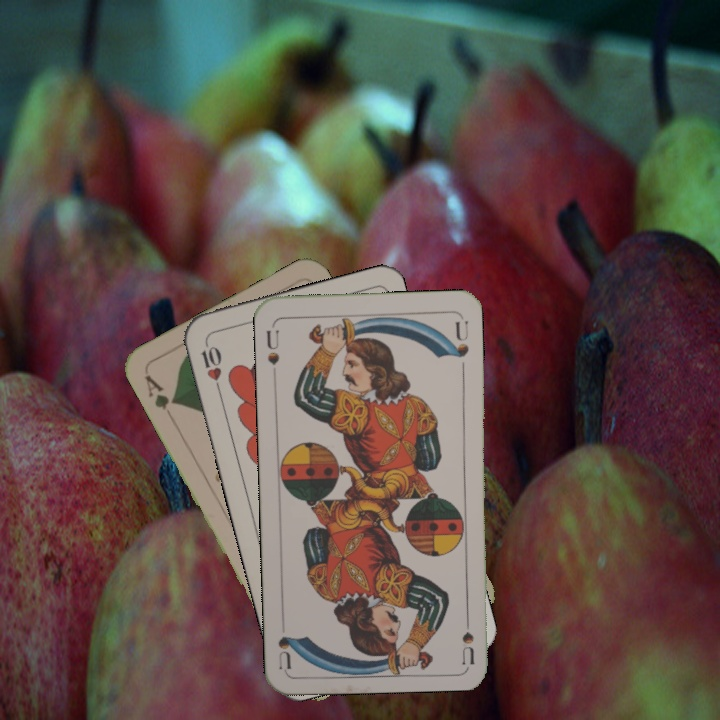GA: (141, 370, 179, 423)
H10: (196, 337, 224, 395)
SU: (458, 605, 477, 664), (262, 320, 282, 368)
